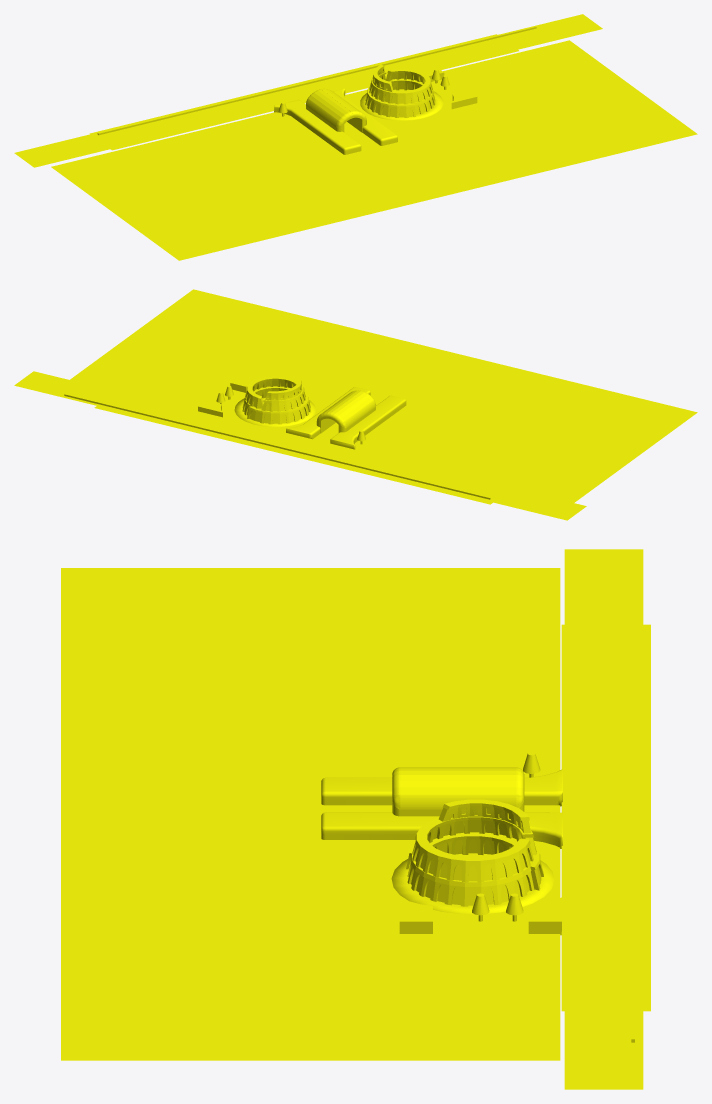
3 views of the same model, one above another, from view 1: azimuth 30°, elevation 25°; view 2: azimuth 150°, elevation 25°; view 3: azimuth 270°, elevation 25° (orthographic). The views are drawn at different scales.
Parts seen in each view (by area): view 1: Plane.001, Plane__1_, arena, separated_01_1, Cube, tuong_001_001, san1; view 2: Plane.001, Plane__1_, arena, separated_01_1, Cube, tuong_001_001, san1; view 3: Plane.001, Plane__1_, arena, separated_01_1, Cube, san1, tuong_001_001, separated_01_4, separated_01_3.
Part boxes in pixels (x1,y1,x2,y2): Plane.001: (51,40,697,260); Plane__1_: (14,14,602,167); arena: (360,64,443,120); separated_01_1: (274,88,397,154); Cube: (306,88,366,132); tuong_001_001: (97,26,536,135); san1: (89,34,518,150); Plane.001: (70,289,697,502); Plane__1_: (14,371,586,520); arena: (234,376,315,426); separated_01_1: (286,387,406,449); Cube: (316,390,375,433); tuong_001_001: (64,393,490,499); san1: (94,406,492,504); Plane.001: (61,568,560,1060); Plane__1_: (564,549,643,1089); arena: (391,799,554,914); separated_01_1: (321,769,562,848); Cube: (392,767,524,816); san1: (561,624,650,1011); tuong_001_001: (631,623,634,1042); separated_01_4: (399,897,432,933); separated_01_3: (528,897,561,935).
Bounding box in the file's own units: 101 × 7.59 × 46.73.
Materials: 2 (2 with a texture image).
